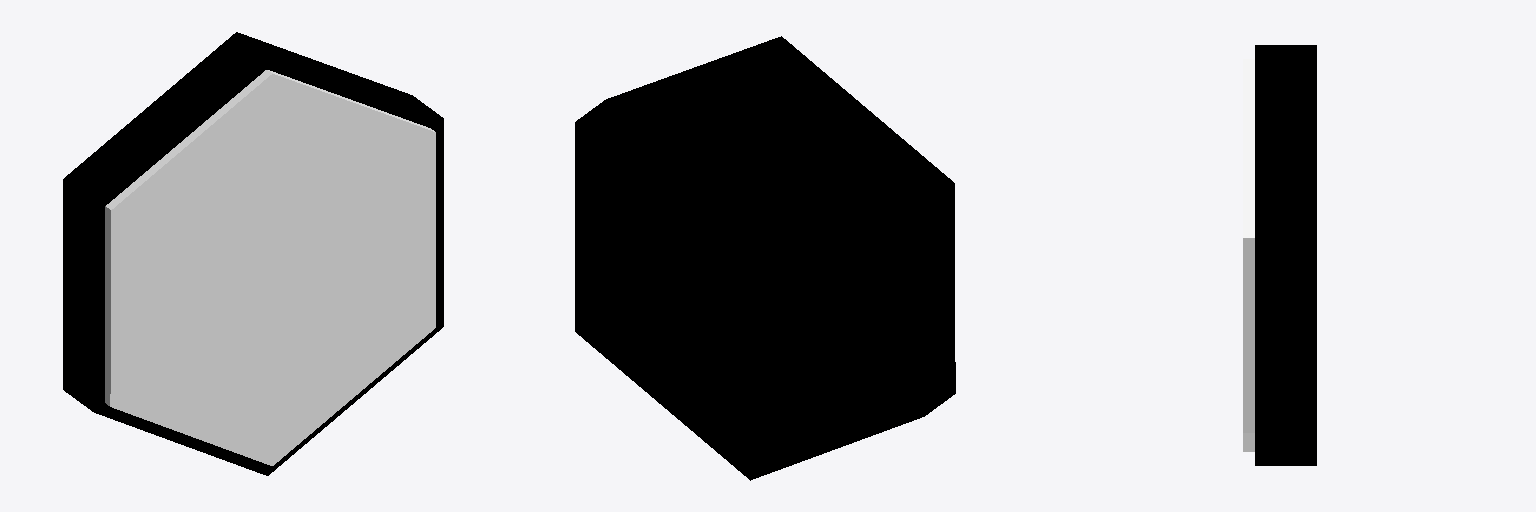
The model's file is PlainsHex.obj.
3 renders of one model, left to right at view 1: azimuth 30°, elevation 25°; view 2: azimuth 150°, elevation 25°; view 3: azimuth 270°, elevation 25°, orthographic.
Visible parts, largest first — view 1: Object.1, Object.2; view 2: Object.2; view 3: Object.2, Object.1.
Part boxes in pixels (x1,y1,x2,y2): Object.1: (105, 70, 435, 465); Object.2: (63, 32, 443, 475); Object.2: (575, 36, 955, 480); Object.2: (1255, 45, 1316, 465); Object.1: (1243, 59, 1254, 451).
Bounding box in the file's own units: 21.71 × 25 × 3.98.